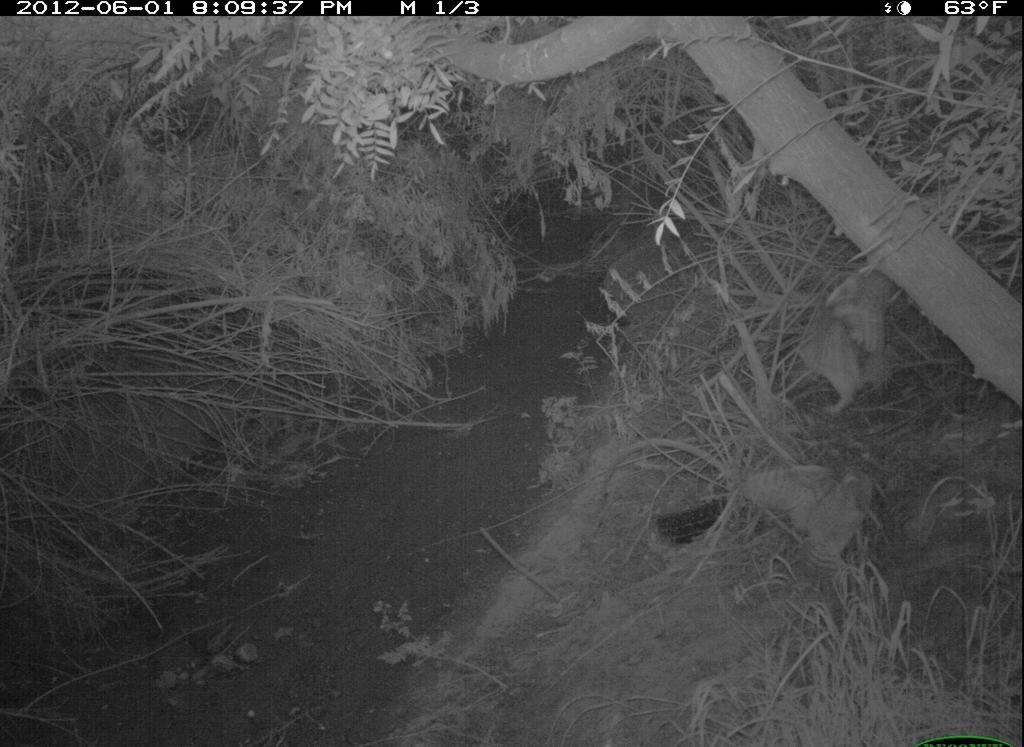bird: (779, 260, 917, 424), (733, 441, 886, 580)
